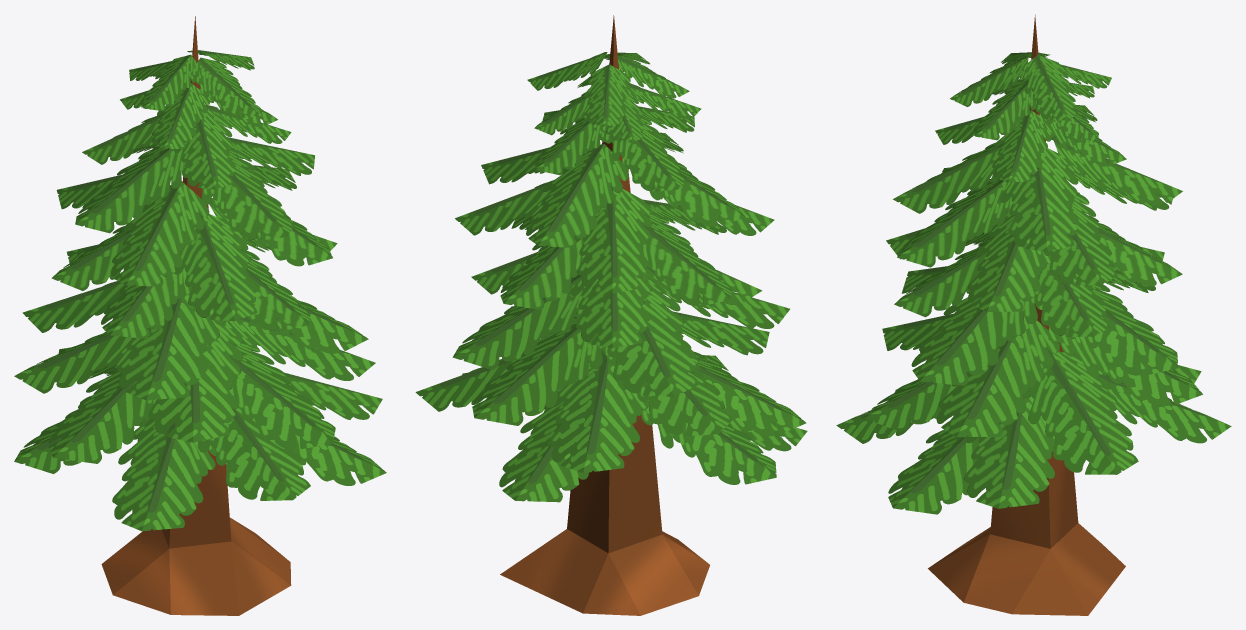
Rendered from Tall_tree_LOD_1.fbx.
3 views of the same model, side by side, from view 1: azimuth 30°, elevation 25°; view 2: azimuth 150°, elevation 25°; view 3: azimuth 270°, elevation 25° (orthographic).
Visible parts, largest first — view 1: Oak_tall_tree_LOD_1; view 2: Oak_tall_tree_LOD_1; view 3: Oak_tall_tree_LOD_1.
Boxes of the visible parts, box(x1,y1,x2,y2) form: Oak_tall_tree_LOD_1: box(14, 16, 386, 615); Oak_tall_tree_LOD_1: box(415, 15, 807, 615); Oak_tall_tree_LOD_1: box(836, 14, 1231, 615).
Bounding box in the file's own units: 510 × 801 × 513.
7 materials, 7 textured.
